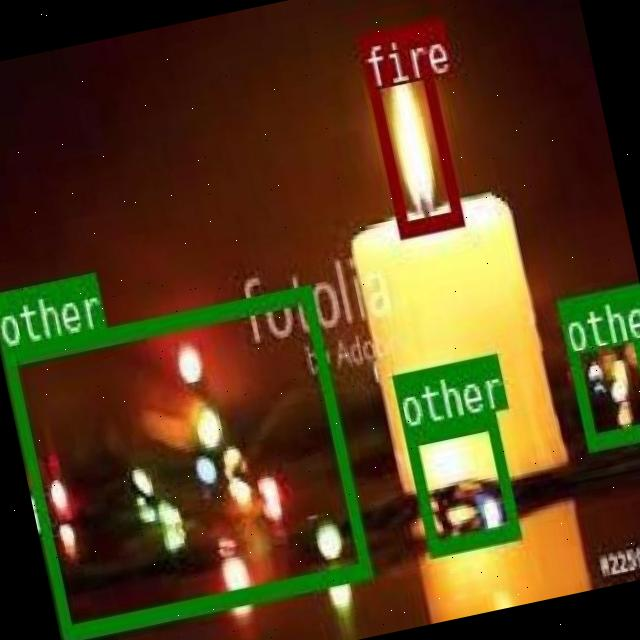fire: (356, 22, 462, 234)
